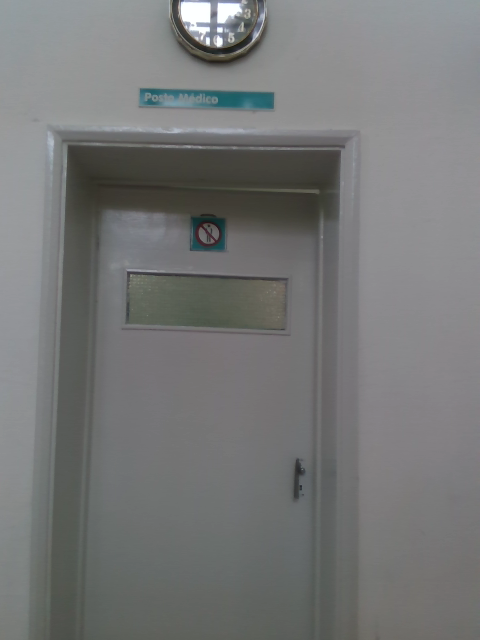closed: (21, 126, 356, 639)
